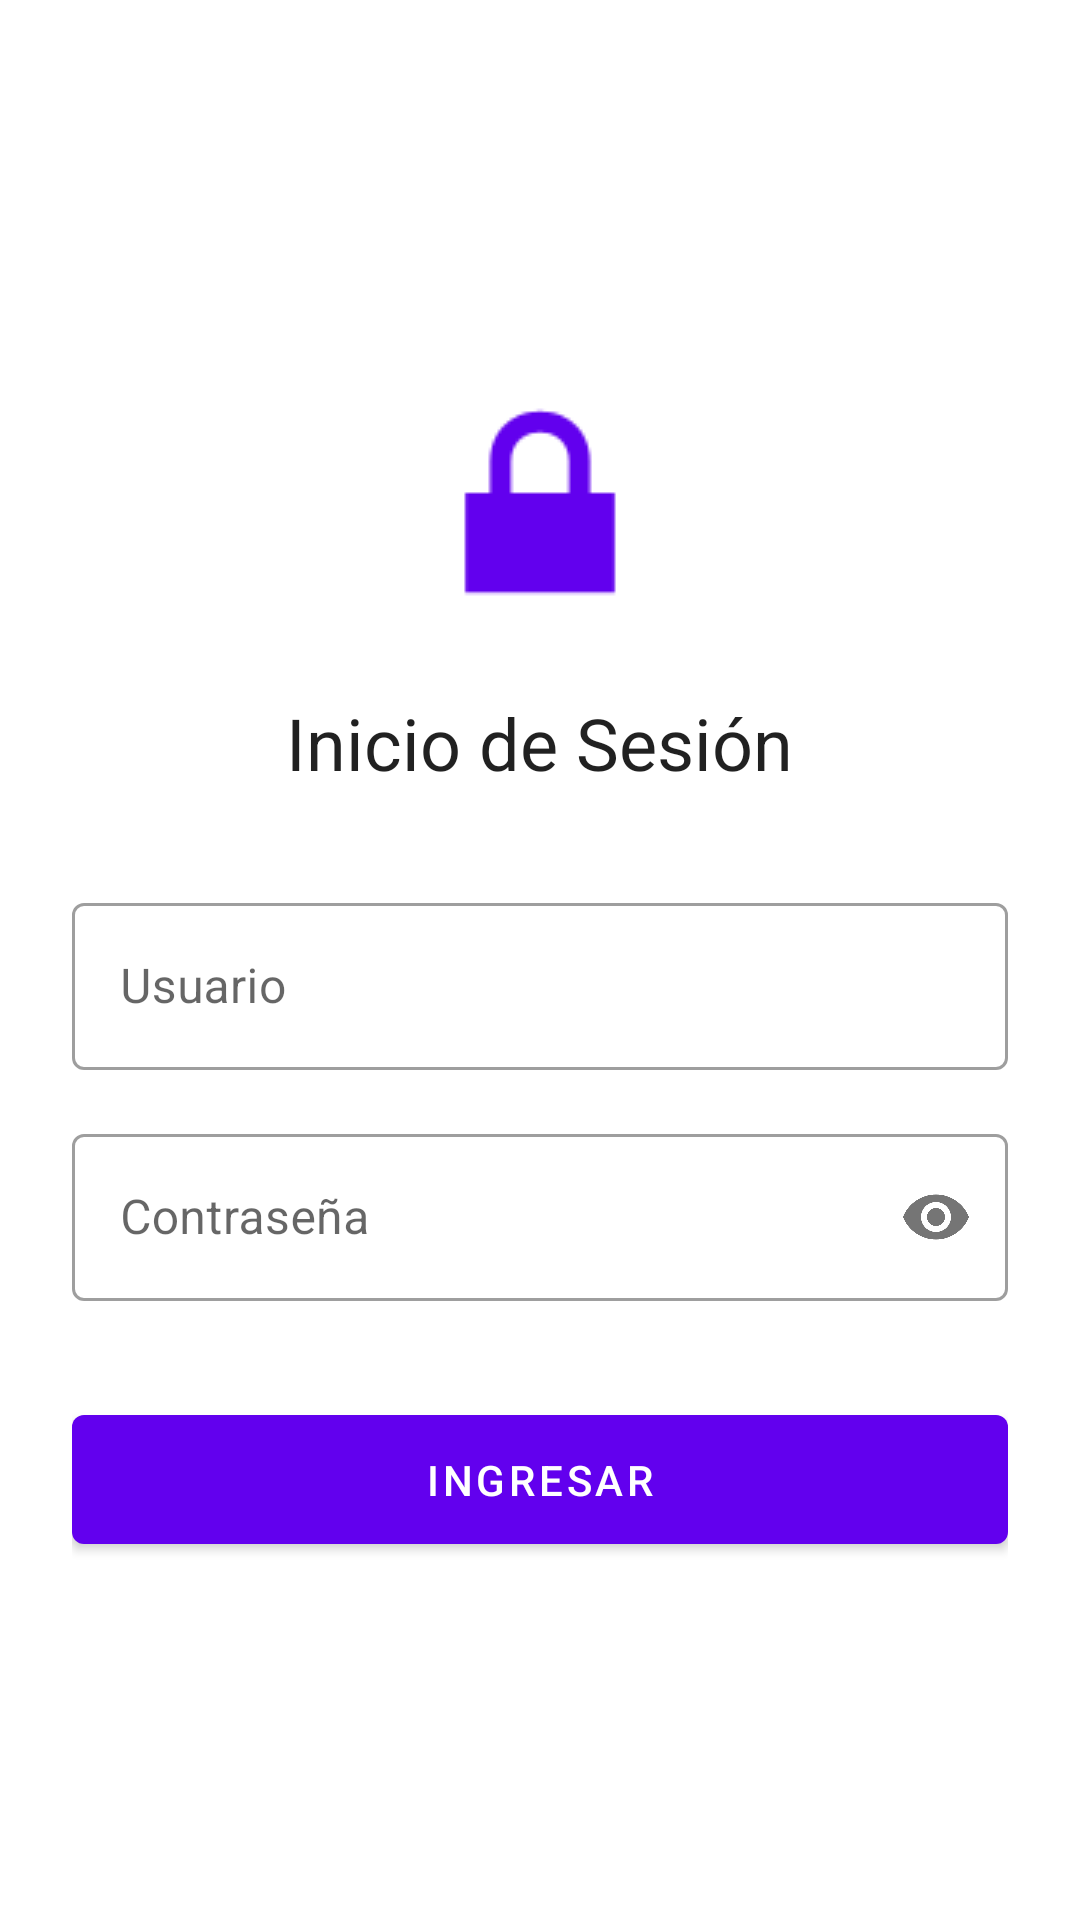

Where to tap for icons on this 1080px×1920px app screen, as (x=x, y=y):
lock: (x=540, y=502)
